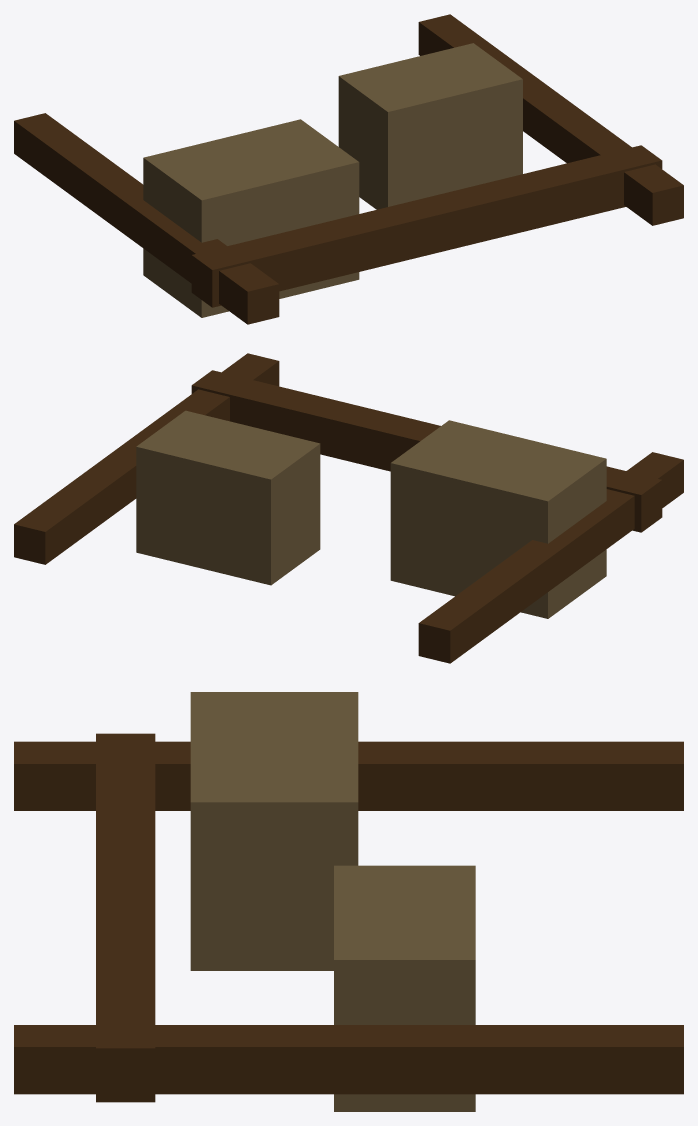
File: SM_RoadSupplyRack.obj
The picture shows the model from 3 angles, top to bottom: view 1: azimuth 30°, elevation 25°; view 2: azimuth 150°, elevation 25°; view 3: azimuth 270°, elevation 25°; orthographic projection. The views are drawn at different scales.
Visible parts, largest first — view 1: SM_RoadSupplyRack; view 2: SM_RoadSupplyRack; view 3: SM_RoadSupplyRack.
Part boxes in pixels (box(x1,y1,x2,y2)): SM_RoadSupplyRack: box(14, 14, 683, 324); SM_RoadSupplyRack: box(14, 353, 683, 663); SM_RoadSupplyRack: box(14, 692, 683, 1111).
Size of the model in its own units: 200 by 50 by 180.
